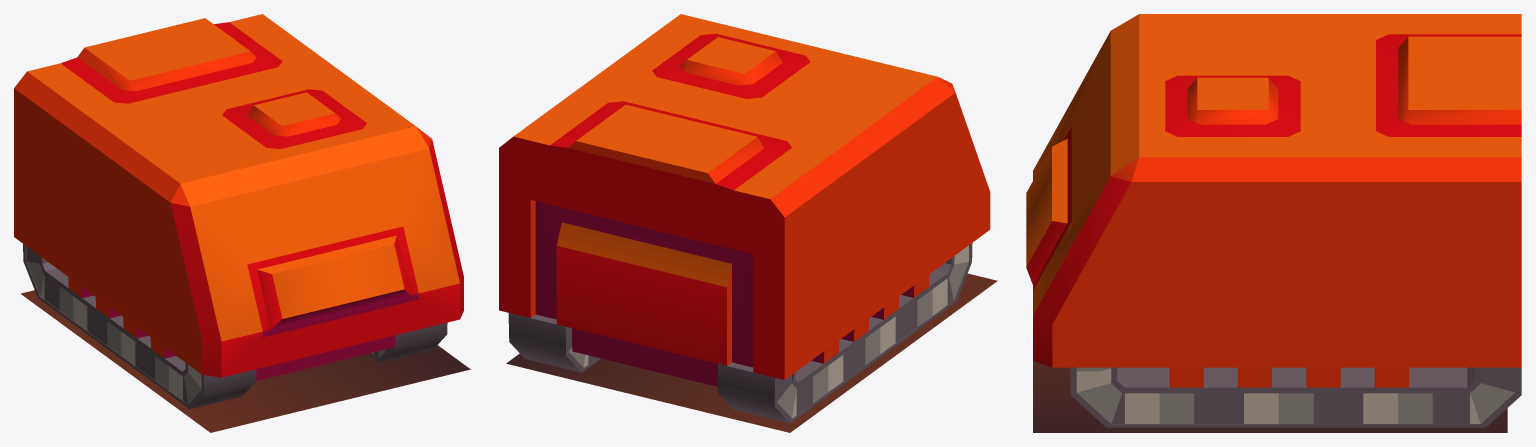
File: APCMesh.OrangeStar.glb
3 views of the same model, side by side, from view 1: azimuth 30°, elevation 25°; view 2: azimuth 150°, elevation 25°; view 3: azimuth 270°, elevation 25° (orthographic). The views are drawn at different scales.
Visible parts, largest first — view 1: APCMesh.OrangeStar; view 2: APCMesh.OrangeStar; view 3: APCMesh.OrangeStar.
Boxes of the visible parts, bbox=[...] form: APCMesh.OrangeStar: bbox=[14, 14, 470, 432]; APCMesh.OrangeStar: bbox=[499, 14, 997, 432]; APCMesh.OrangeStar: bbox=[1026, 14, 1521, 432].
Bounding box in the file's own units: 1.51 × 1.25 × 1.98.
1 material, 1 textured.
